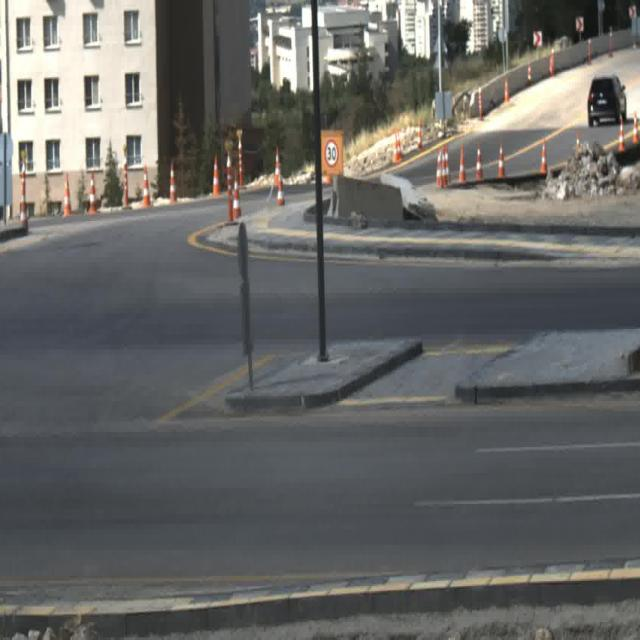Car: (589, 75, 626, 124)
